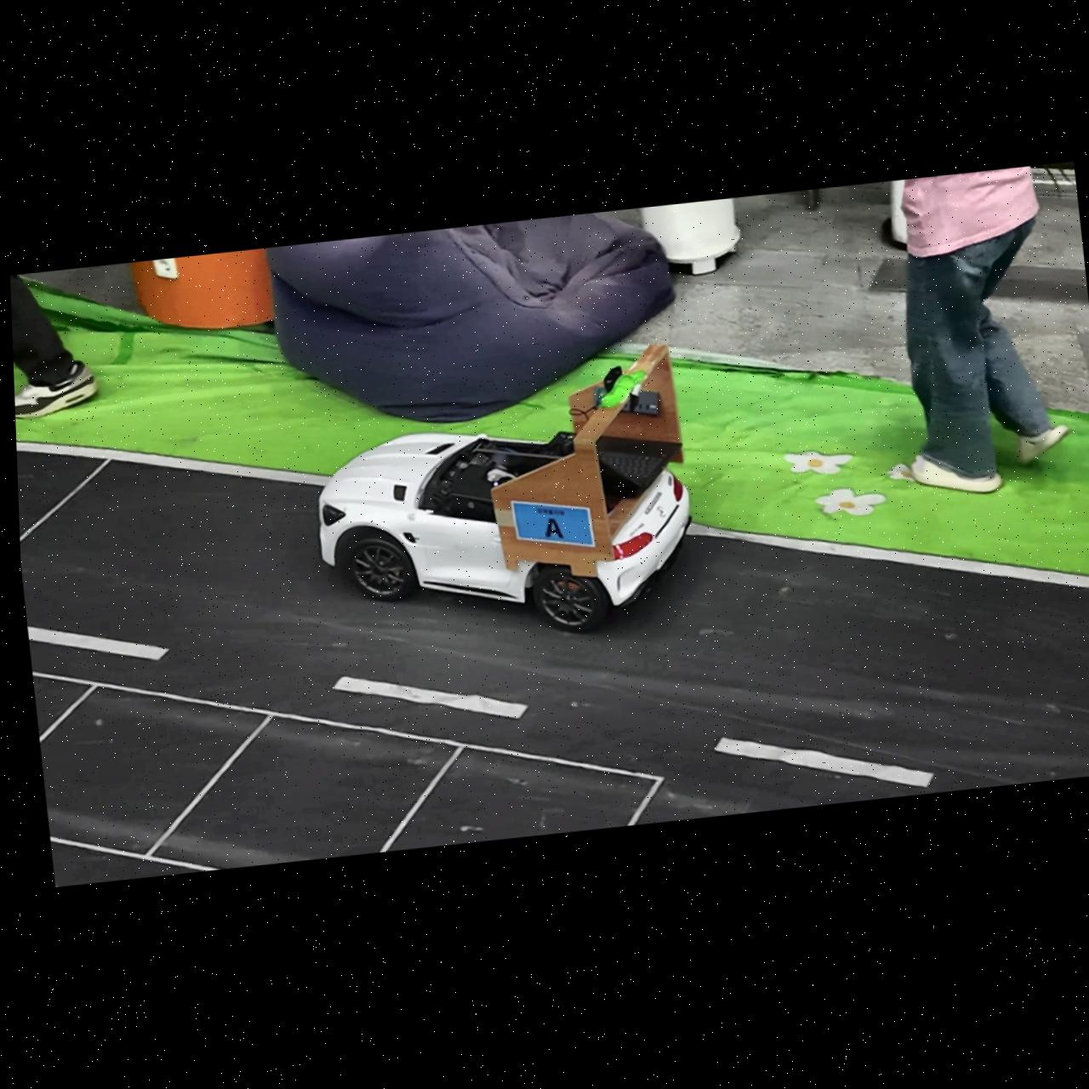broken_line: (714, 737, 934, 787), (333, 676, 529, 719), (28, 626, 169, 661)
